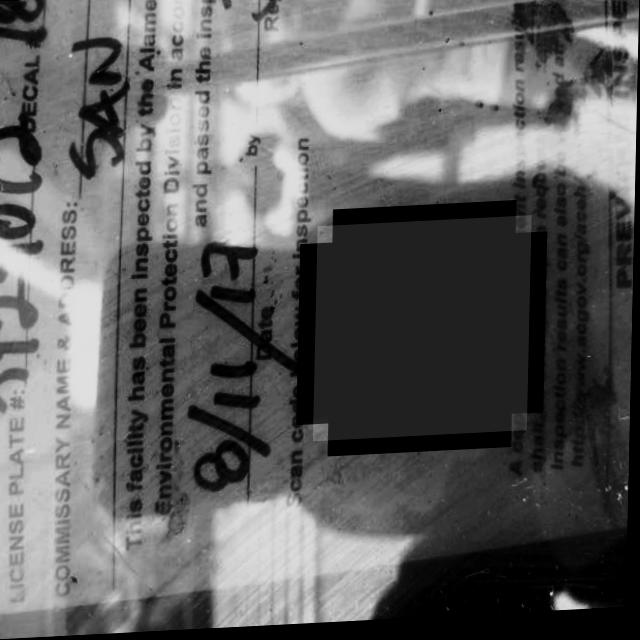qr_code: (315, 220, 533, 444)
